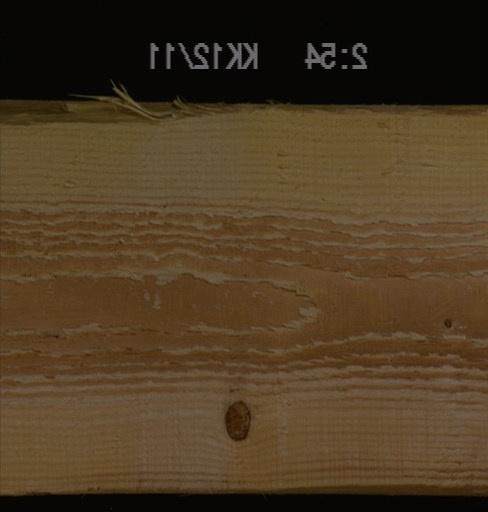dry_knot: (223, 397, 253, 442)
small_knot: (440, 313, 455, 331)
wave: (0, 95, 486, 127), (0, 476, 486, 499)
